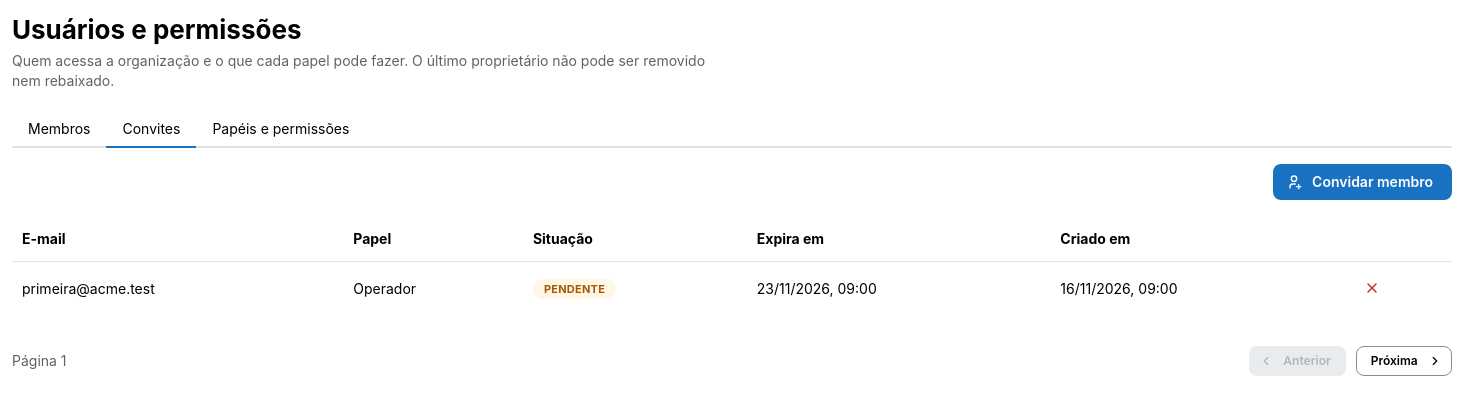
Test: usuários e permissões › convites seguem o next_cursor para a página seguinte
Check: the text "primeira@acme.test" is shown, box [12, 262, 343, 314]
Step 1. Click the button "Próxima" → (1404, 361), box [1356, 346, 1452, 376]
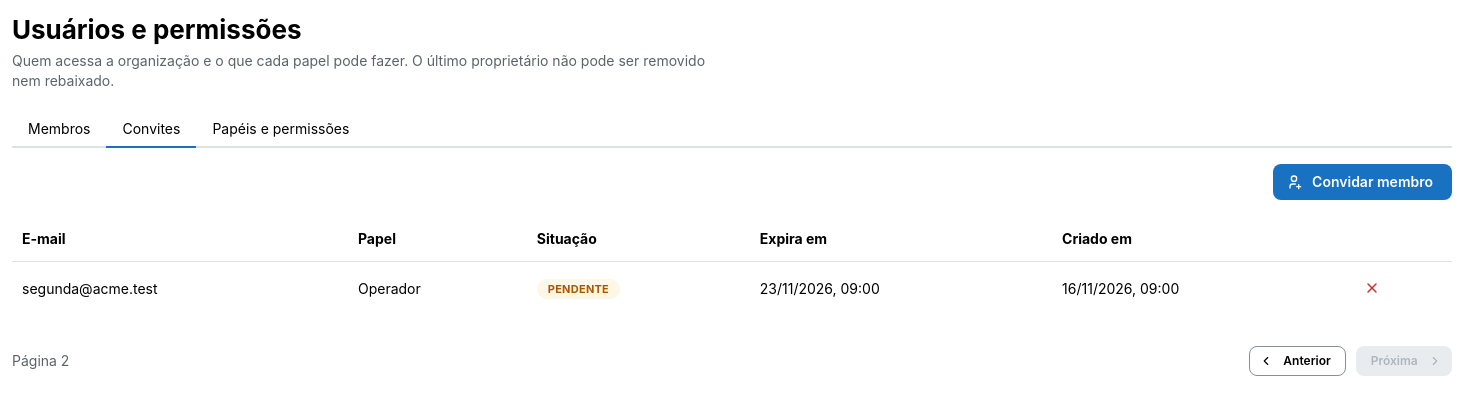
Check: the text "segunda@acme.test" is shown, box [12, 262, 348, 314]
Check: the button "Próxima" is disabled, box [1356, 346, 1452, 376]
